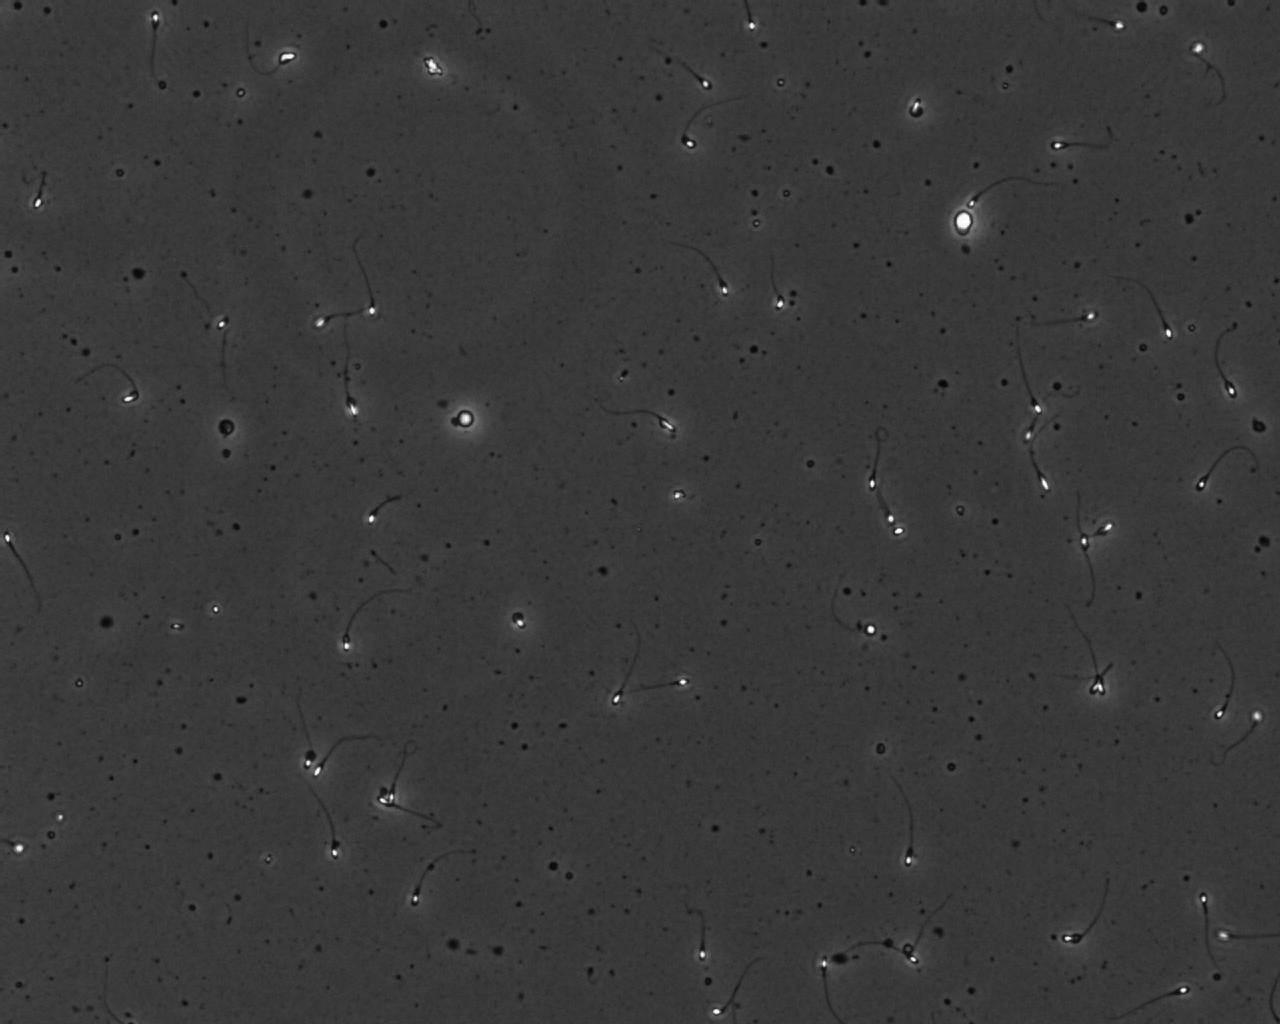cell: (950, 206, 978, 239), (213, 415, 238, 440), (452, 408, 478, 432)
